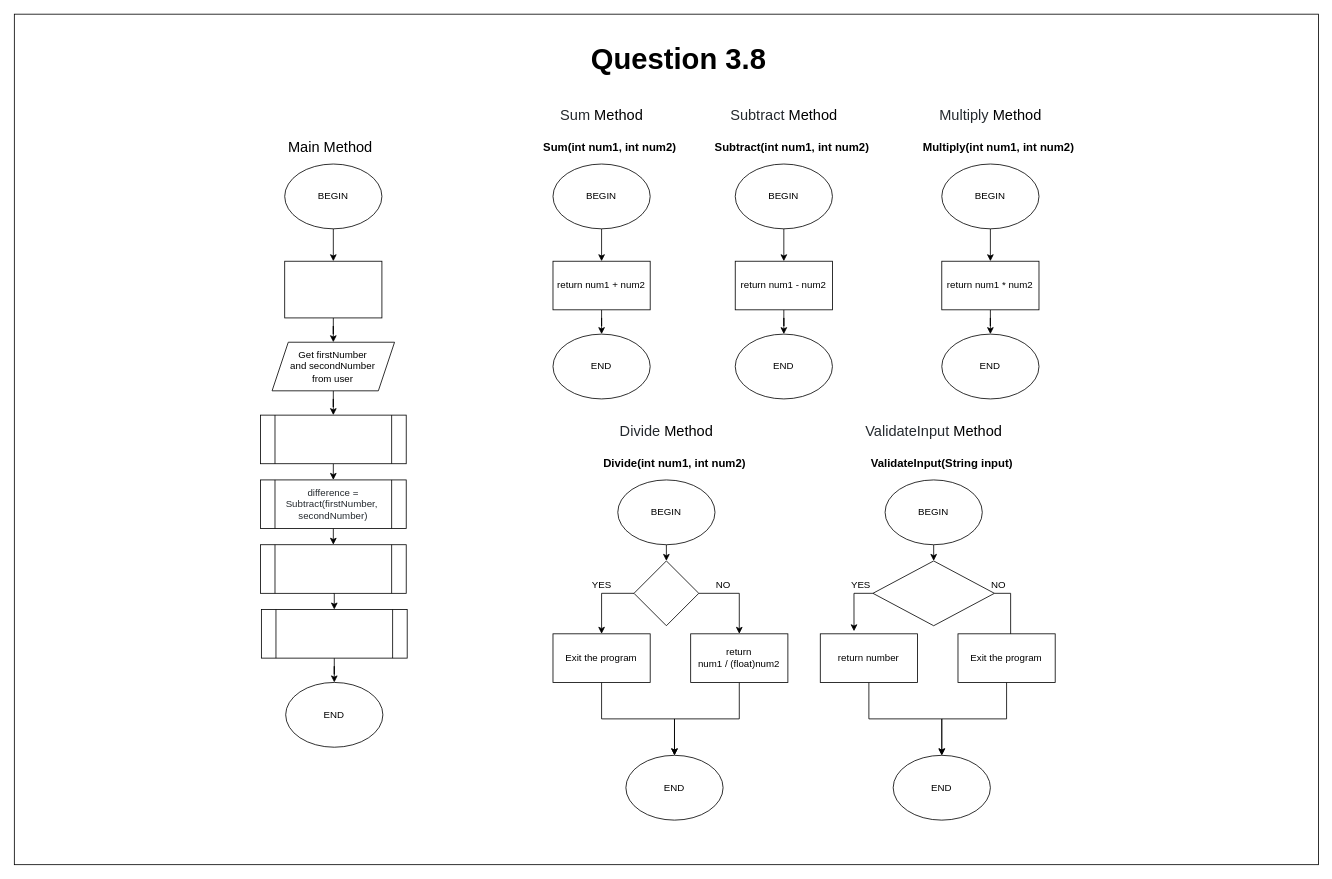
The diagram is 1332 pixels wide and 879 high, and some of its shapes have lost their labels. The centre of each missing label's shape, as x and y in pixels:
declare firstNumber, secondNumber, sum, difference, product: point 333,289
division = Divide(firstNumber, secondNumber);: point 334,633
input can be parsed to int?: point 933,593
num2 == 0: point 666,593
product = Multiply(firstNumber, secondNumber): point 333,568
sum = Sum(firstNumber, secondNumber): point 333,439
